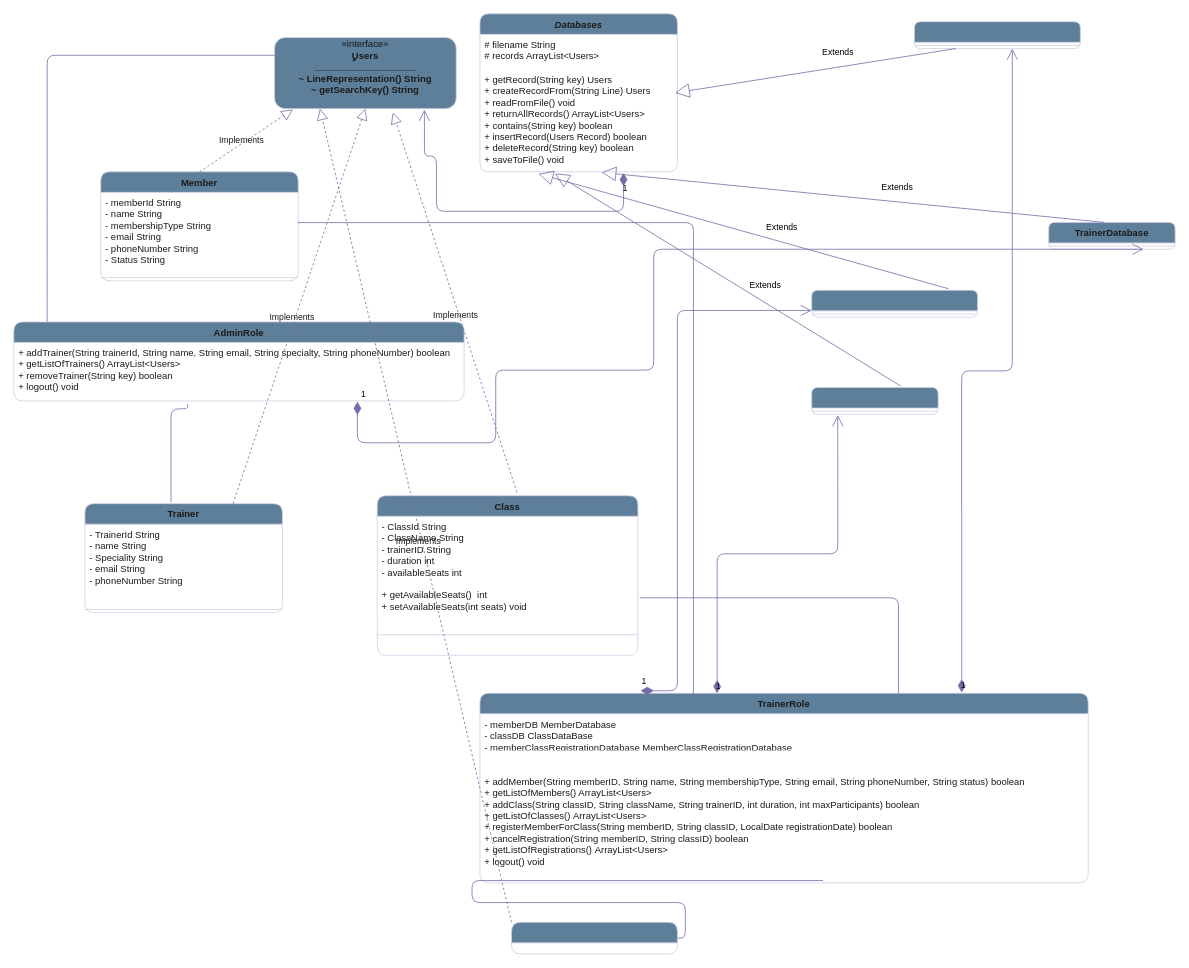
Some shapes in this 1189 by 968 pixel diagram are drawn without their labels. The shapes that lost their labels are listed below. From the top down, each one's centre as x and y in pixels, then its label:
(x=997, y=35): ClassDatabase
(x=894, y=303): MemberClassRegistrationDatabase
(x=874, y=400): MemberDatabase
(x=594, y=938): MemberClassRegistration
